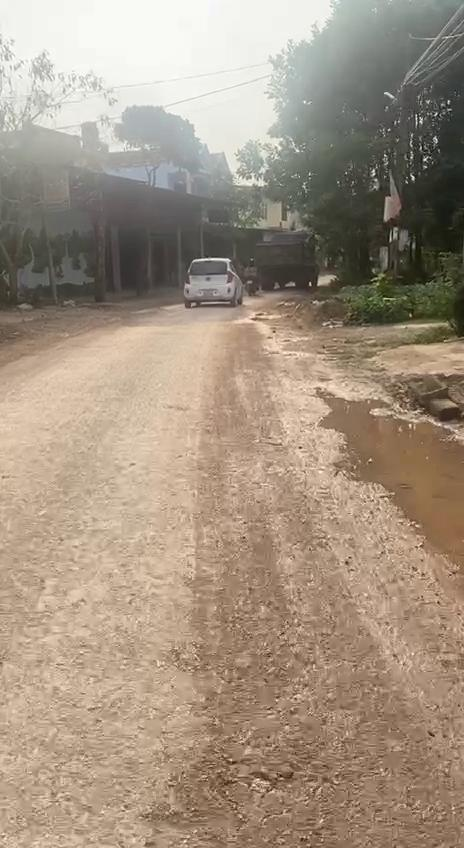pothole: (319, 379, 464, 569)
